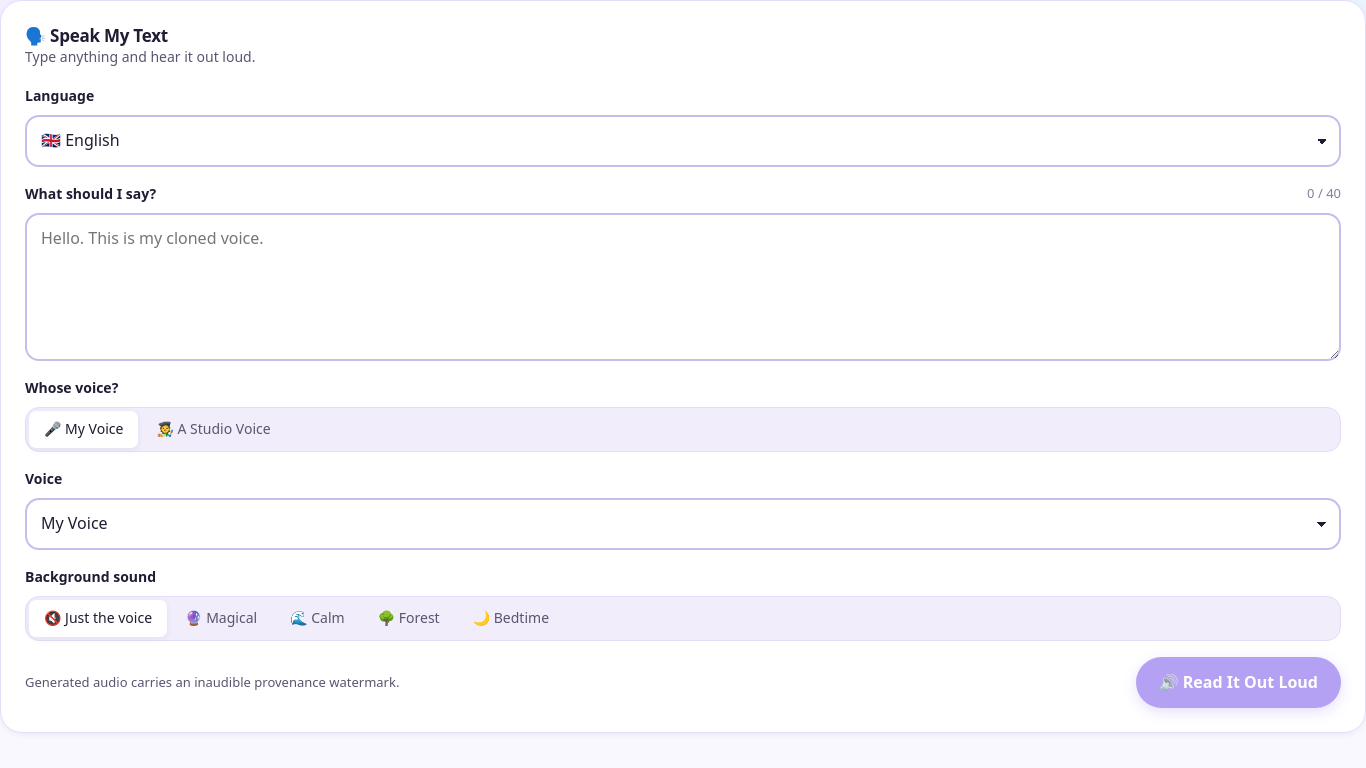
Scenario: GenerateForm › blocks a cloned voice for a language it cannot speak, in plain words
This screenshot has width=1366, height=768.
Step 1. Select "🇦🇲 Հայերեն" in the dropdown with test id "language-select" → (683, 141), box [25,115,1341,167]
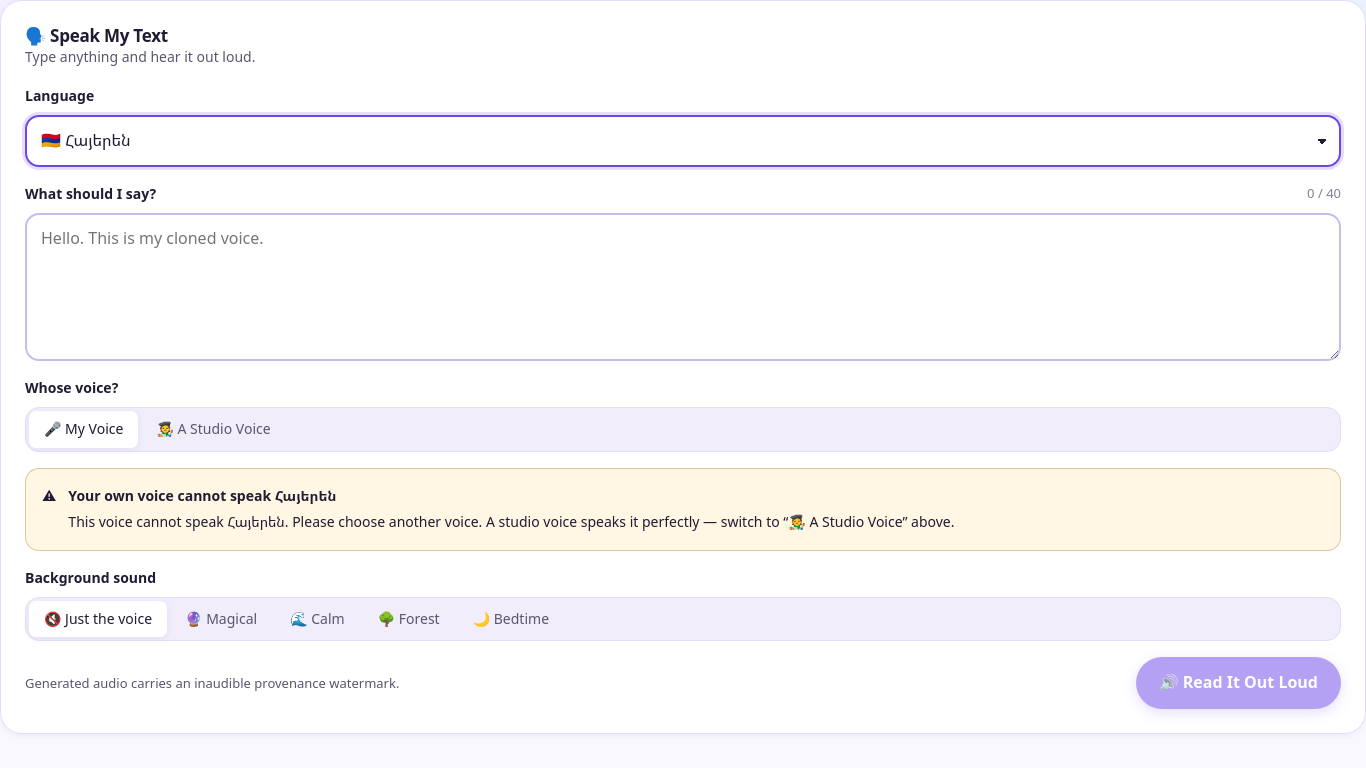
Expected: the button with test id "generate-submit" is disabled, [1136,657,1341,709]
Result: the text "This voice cannot speak Հայերեն. Please choose another voice." is shown at [68,512,482,531]
